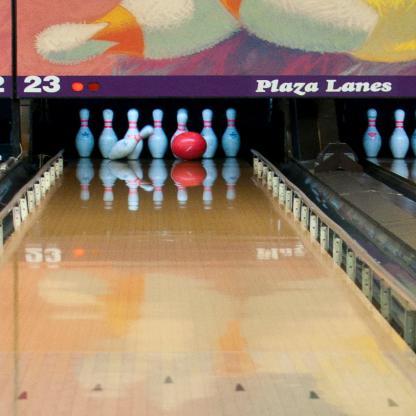Ball: (173, 132, 208, 162)
